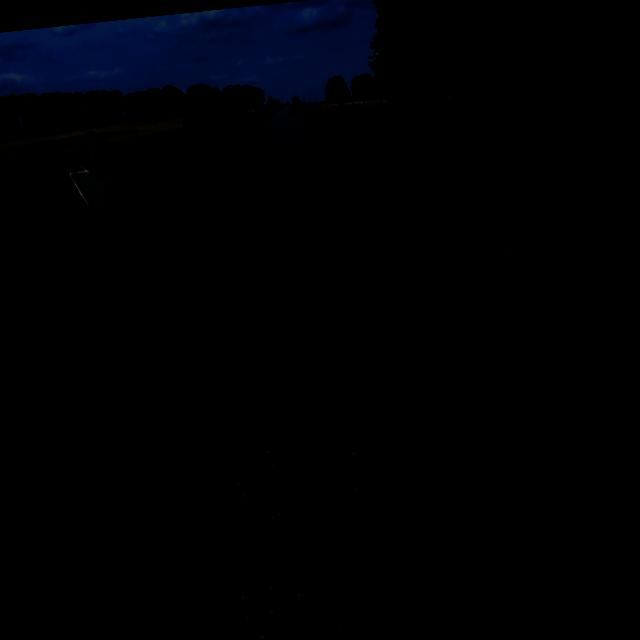road: (61, 108, 640, 640)
